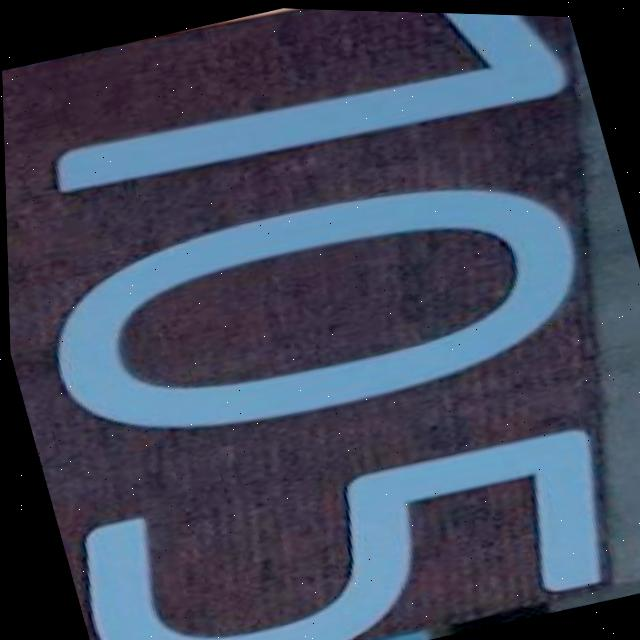character: (9, 132, 621, 491), (53, 391, 640, 640), (2, 0, 593, 237)
